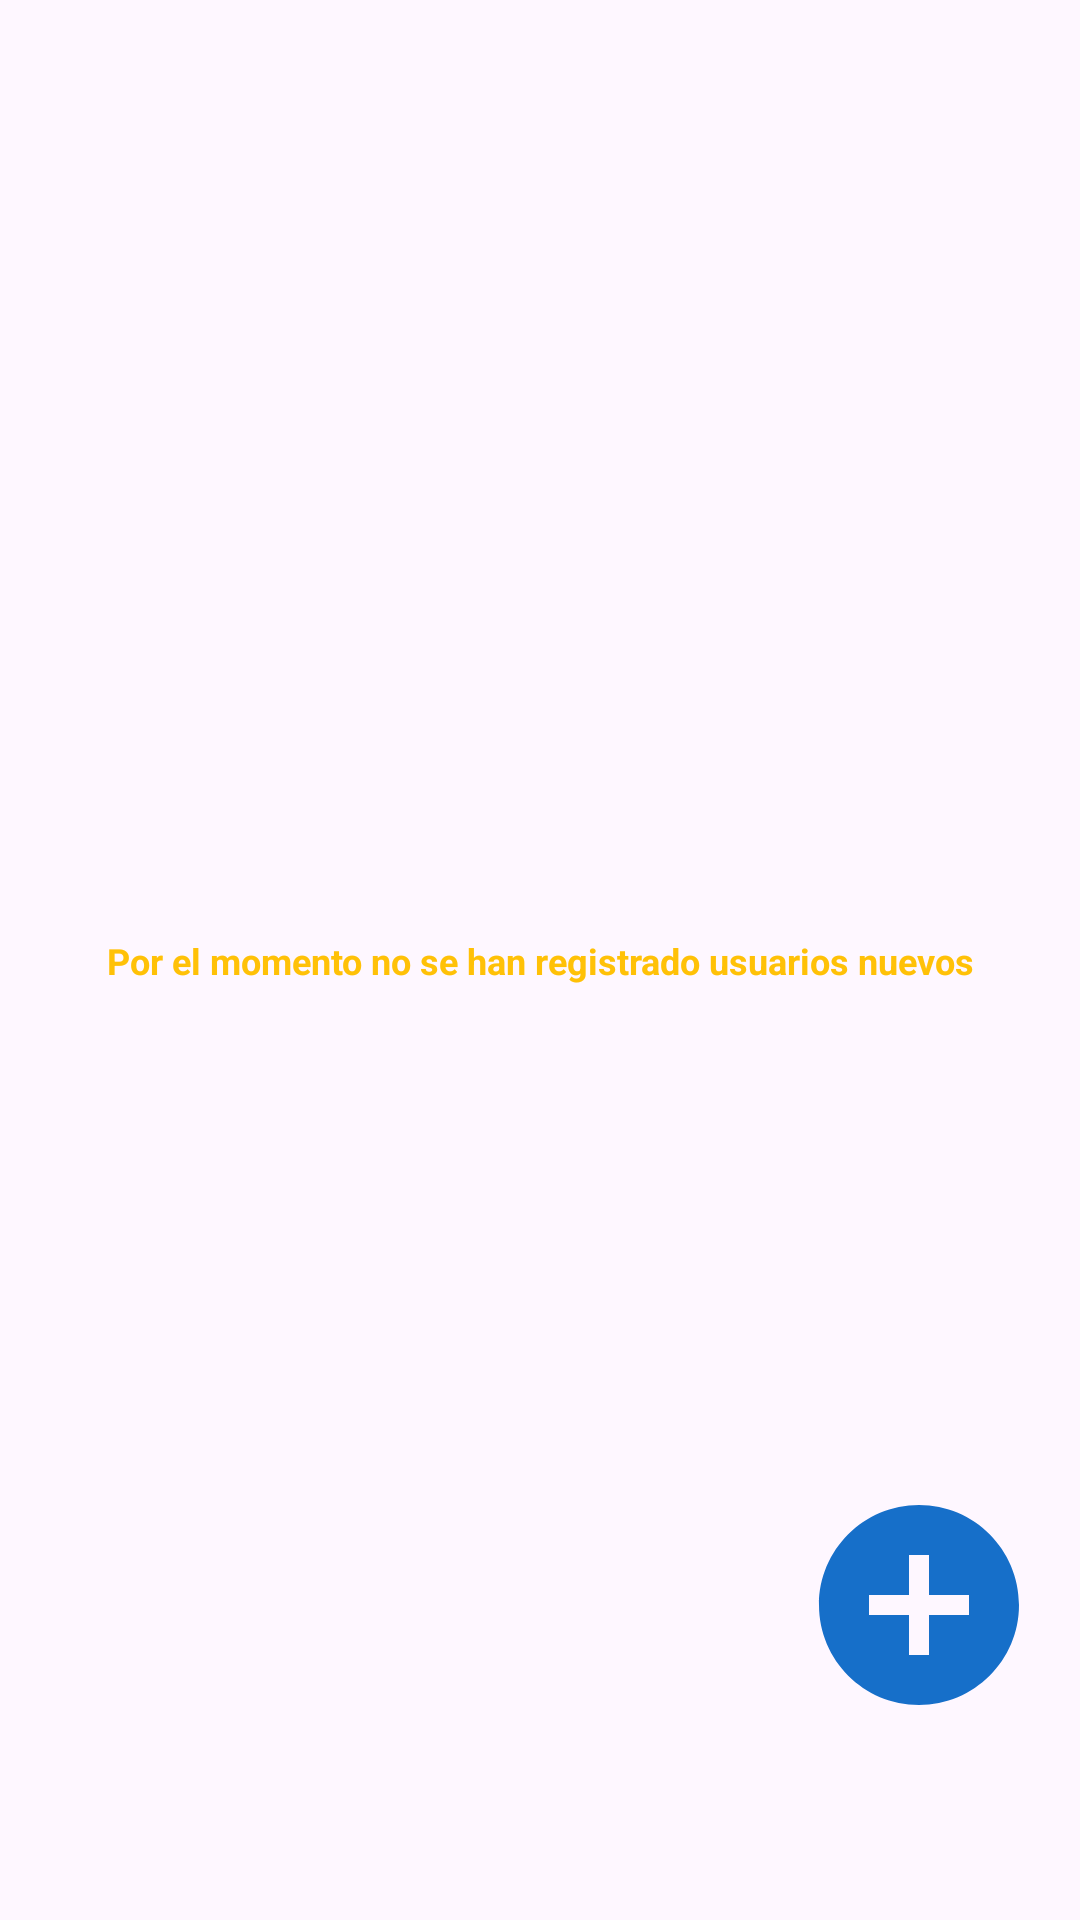

Where to tap for icons on this 1080w x 1920h app screen, as (x,y):
add circle: (919,1605)
